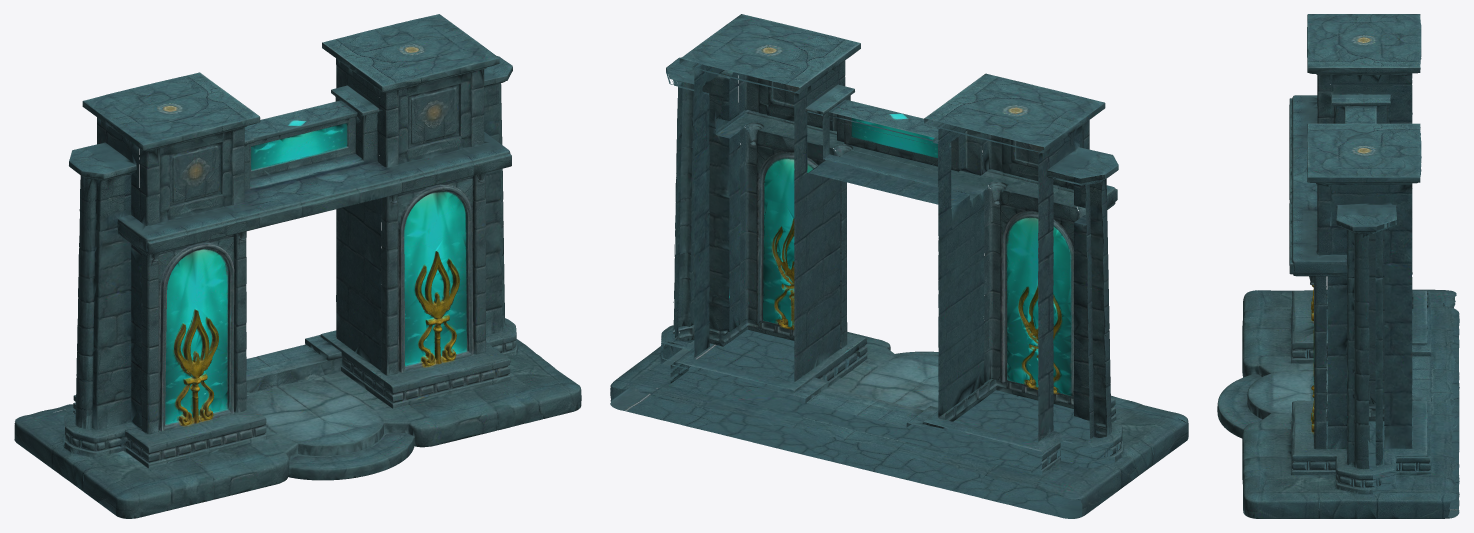
File: atlantis_bay.glb
The picture shows the model from 3 angles, left to right: view 1: azimuth 30°, elevation 25°; view 2: azimuth 150°, elevation 25°; view 3: azimuth 270°, elevation 25°; orthographic projection. The views are drawn at different scales.
Bounding box in the file's own units: 1.9 × 1.33 × 0.9171.
Materials: 1 (1 with a texture image).
